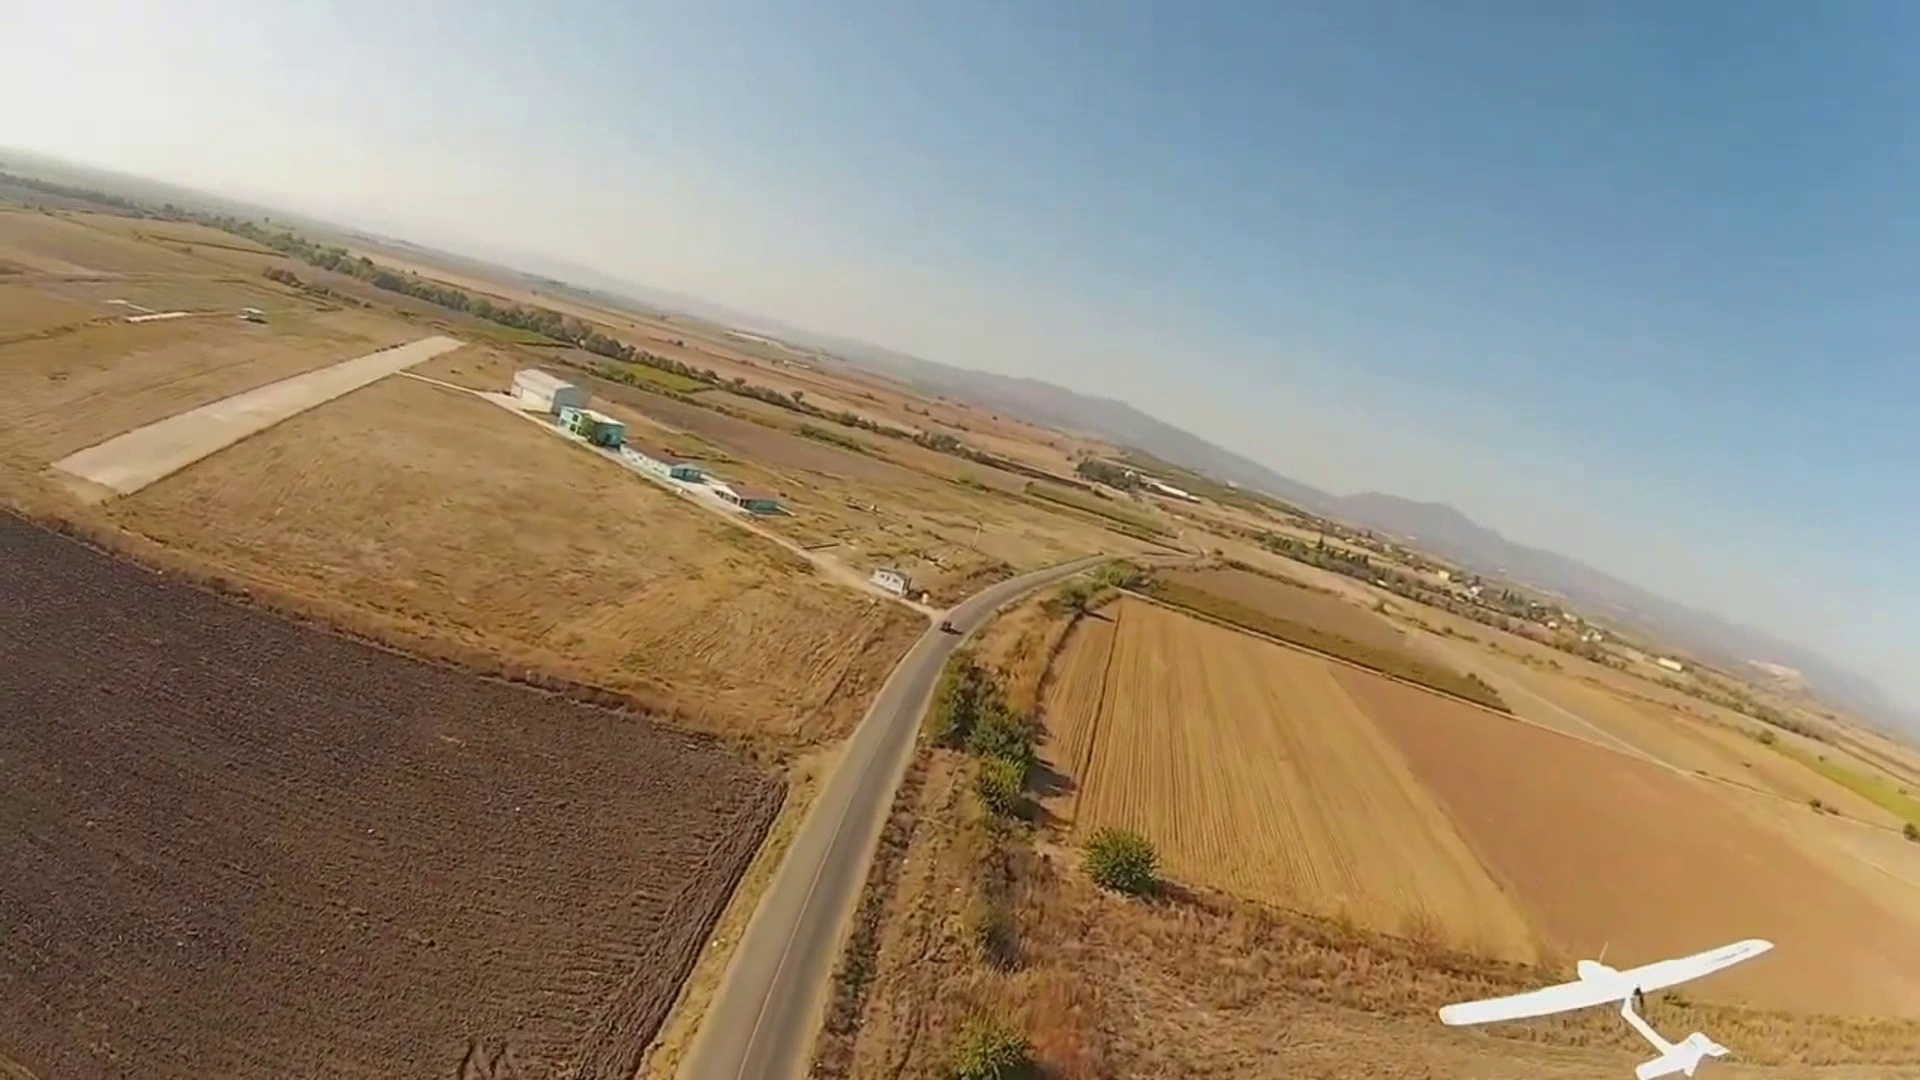airplane: (1437, 938, 1778, 1079)
